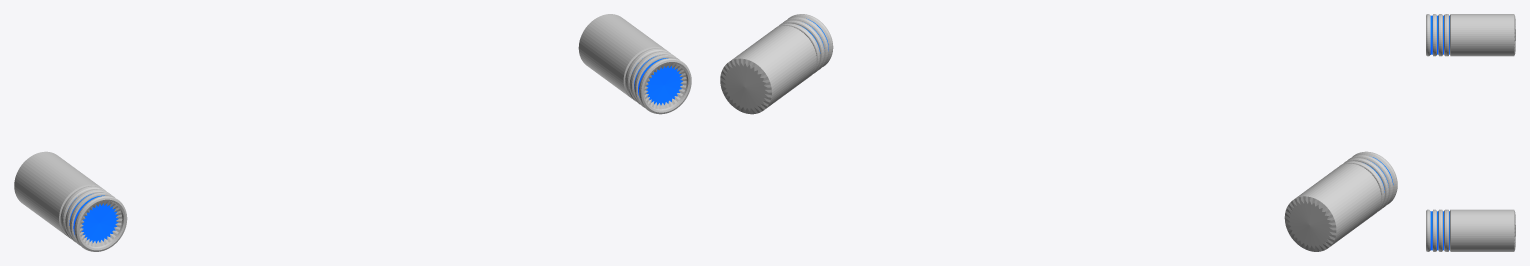
Rendered from NightrogenBlaster.fbx.
3 renders of one model, left to right at view 1: azimuth 30°, elevation 25°; view 2: azimuth 150°, elevation 25°; view 3: azimuth 270°, elevation 25°, orthographic. The views are drawn at different scales.
Parts seen in each view (by area): view 1: Plane.001; view 2: Plane.001; view 3: Plane.001.
Boxes of the visible parts, x1,y1,x2,y2 form: Plane.001: (14, 14, 691, 251); Plane.001: (720, 14, 1397, 251); Plane.001: (1426, 14, 1515, 251).
Bounding box in the file's own units: 99.75 × 8.38 × 17.76.
